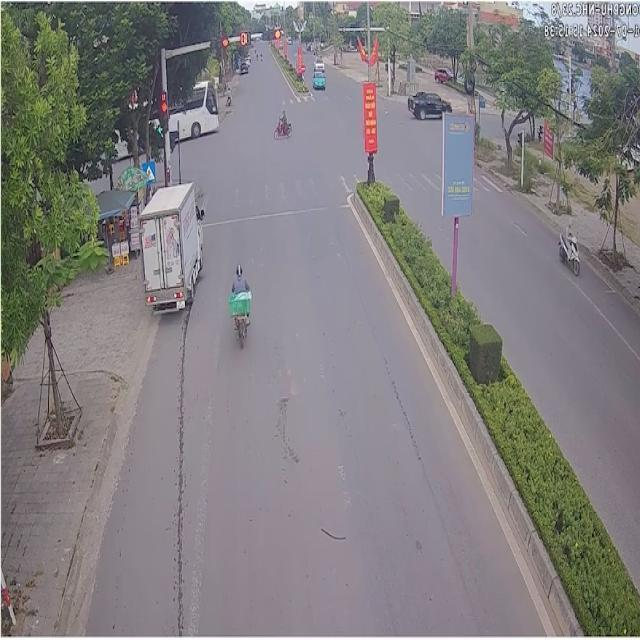car: (138, 182, 202, 309), (167, 81, 216, 137), (406, 90, 449, 118), (310, 68, 323, 88)
motobike: (227, 261, 249, 344), (557, 226, 578, 273), (273, 108, 290, 136)
red_light: (207, 37, 228, 51), (160, 89, 166, 133), (261, 29, 279, 41), (240, 31, 251, 44)
stop_line: (202, 203, 346, 225)
